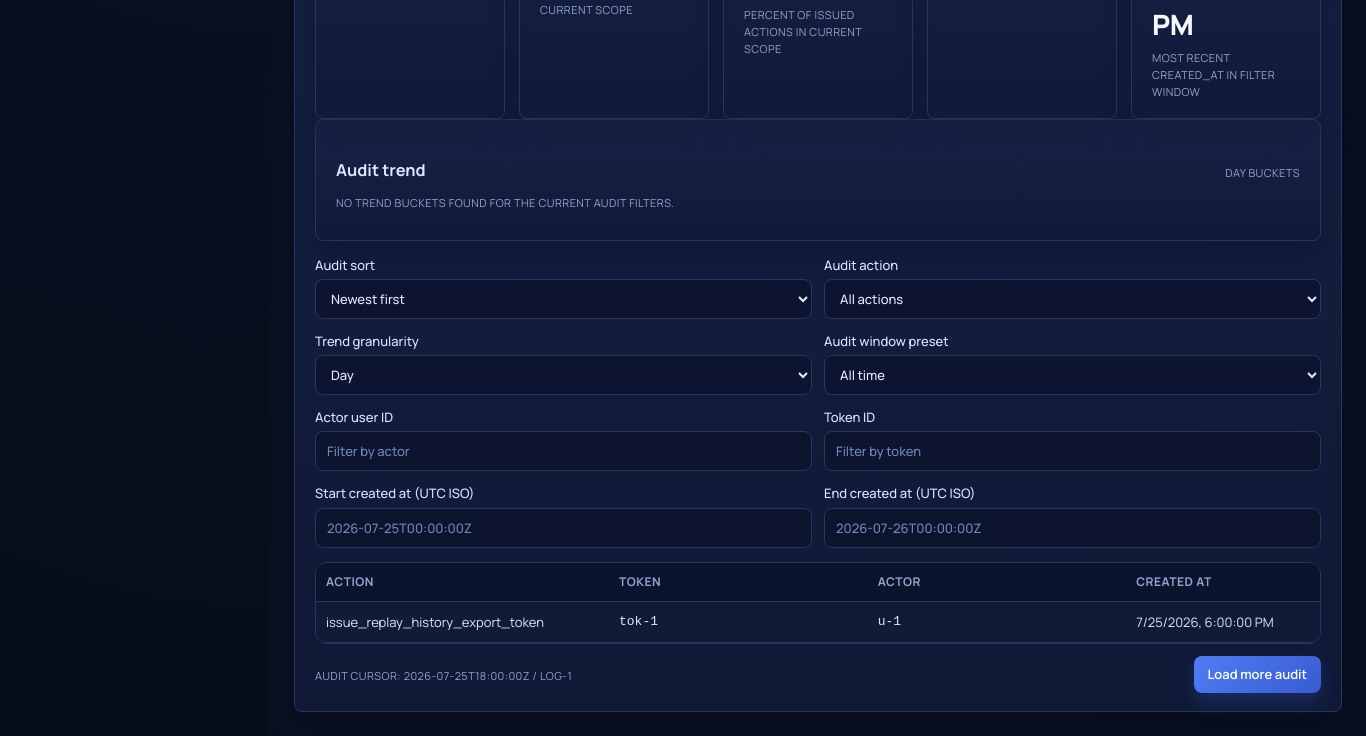
Test case: Intake replay token observability page › loads additional audit rows with cursor_created_at and cursor_id
(page scrolled)
Expected: the text "tok-1" is shown, [609,602,868,643]
Click the button "Load more audit" at (1257, 674), box [1194,656,1321,692]
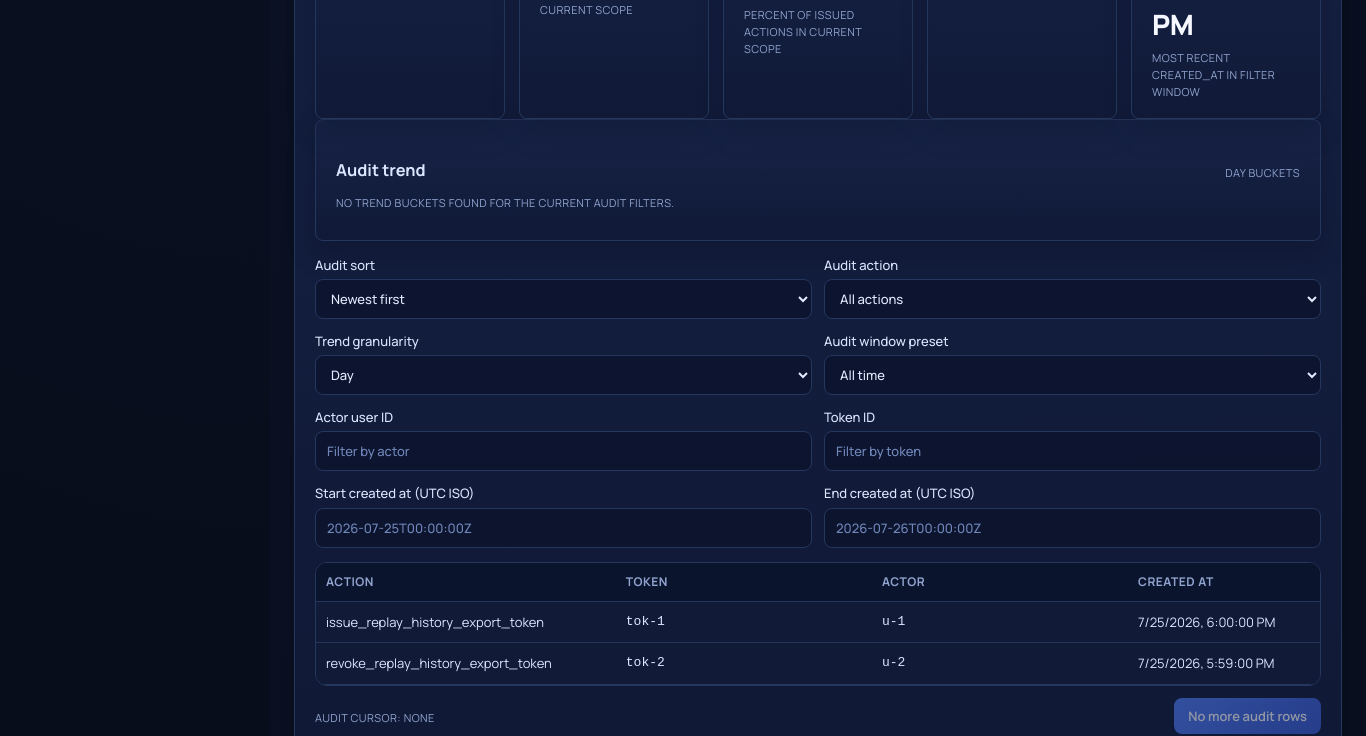
Expected: the text "tok-2" is shown, [616,643,872,684]
Expected: the button "No more audit rows" is disabled, [1174,698,1321,734]
